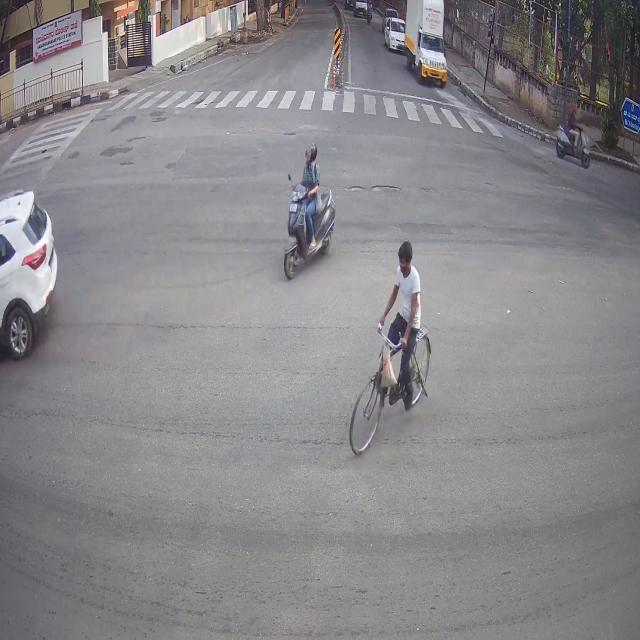Bicycle: (355, 255, 440, 449)
Car: (2, 197, 58, 347), (383, 15, 407, 53)
LCV: (411, 0, 448, 84)
Two-wheelers: (283, 151, 339, 271), (559, 102, 594, 172)
